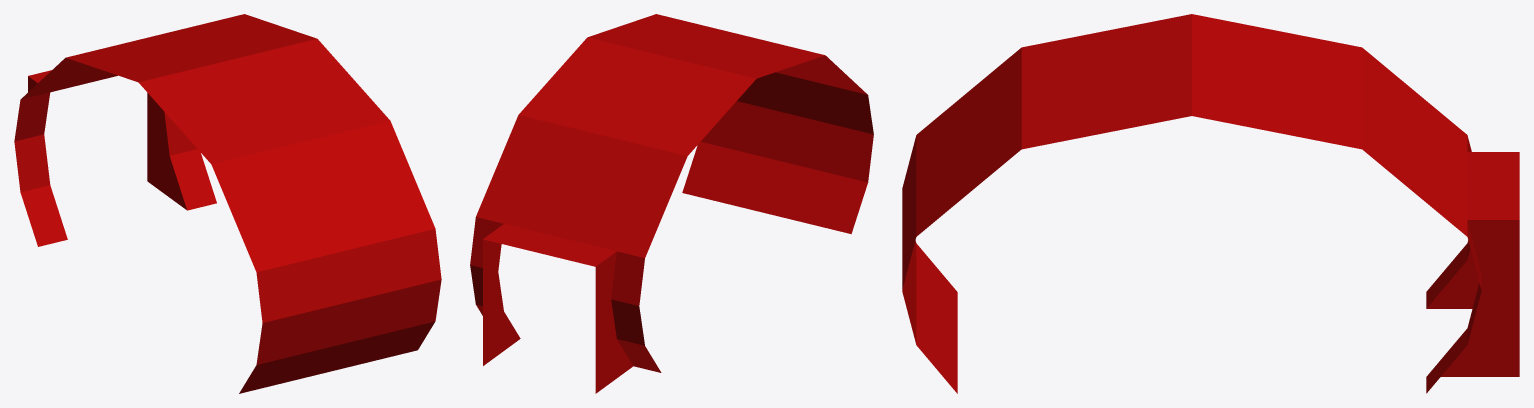
Rendered from c_tunnel_doorway_w.fbx.
3 views of the same model, side by side, from view 1: azimuth 30°, elevation 25°; view 2: azimuth 150°, elevation 25°; view 3: azimuth 270°, elevation 25° (orthographic). The views are drawn at different scales.
Visible parts, largest first — view 1: coll_tunnel_doorway_w; view 2: coll_tunnel_doorway_w; view 3: coll_tunnel_doorway_w.
Boxes of the visible parts, left/top/right/bottom form: coll_tunnel_doorway_w: left=14, top=14, right=441, bottom=393; coll_tunnel_doorway_w: left=470, top=14, right=873, bottom=393; coll_tunnel_doorway_w: left=902, top=14, right=1519, bottom=393.
Bounding box in the file's own units: 1000 × 1270 × 2558.
